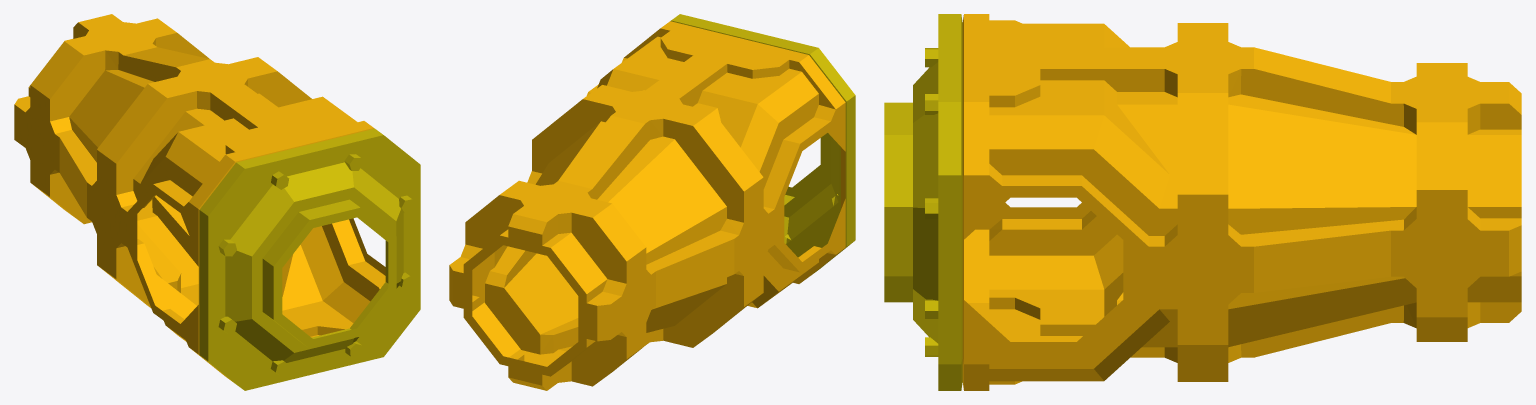
File: mpe_differential_advanced.dae
3 renders of one model, left to right at view 1: azimuth 30°, elevation 25°; view 2: azimuth 150°, elevation 25°; view 3: azimuth 270°, elevation 25°, orthographic. The views are drawn at different scales.
Visible parts, largest first — view 1: differential; view 2: differential; view 3: differential.
Boxes of the visible parts, x1,y1,x2,y2 form: differential: [14, 14, 420, 390]; differential: [449, 14, 855, 390]; differential: [884, 14, 1521, 390].
Bounding box in the file's own units: 0.25 × 0.5 × 0.25.
